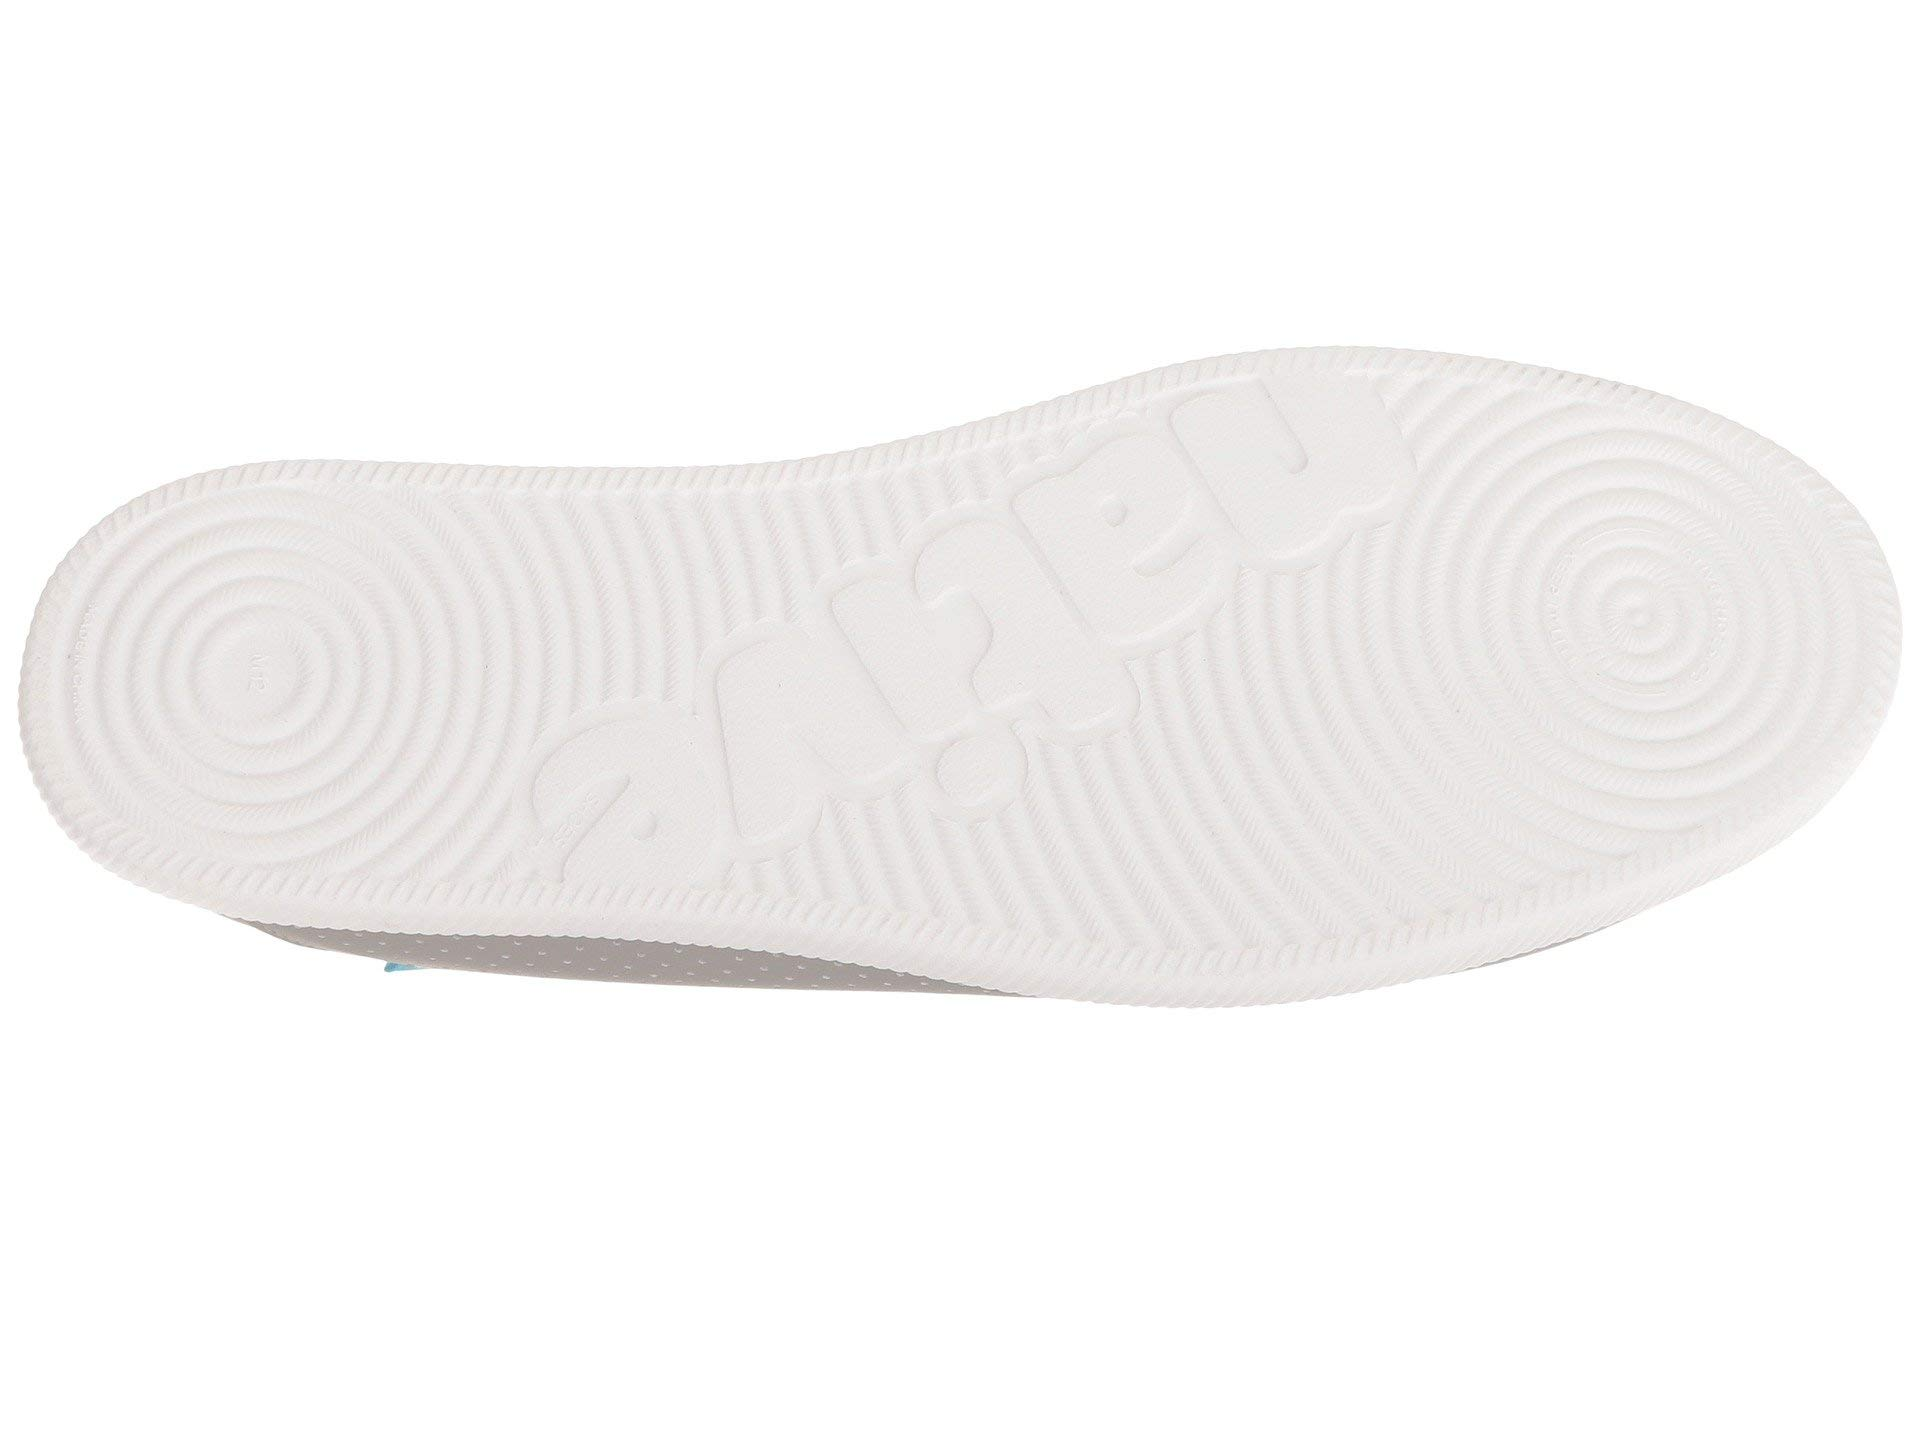circle: (1463, 481, 1823, 827), (125, 551, 447, 820)
line: (1463, 481, 1823, 827), (511, 520, 750, 622), (1022, 948, 1333, 985)
text: (125, 551, 447, 820)
